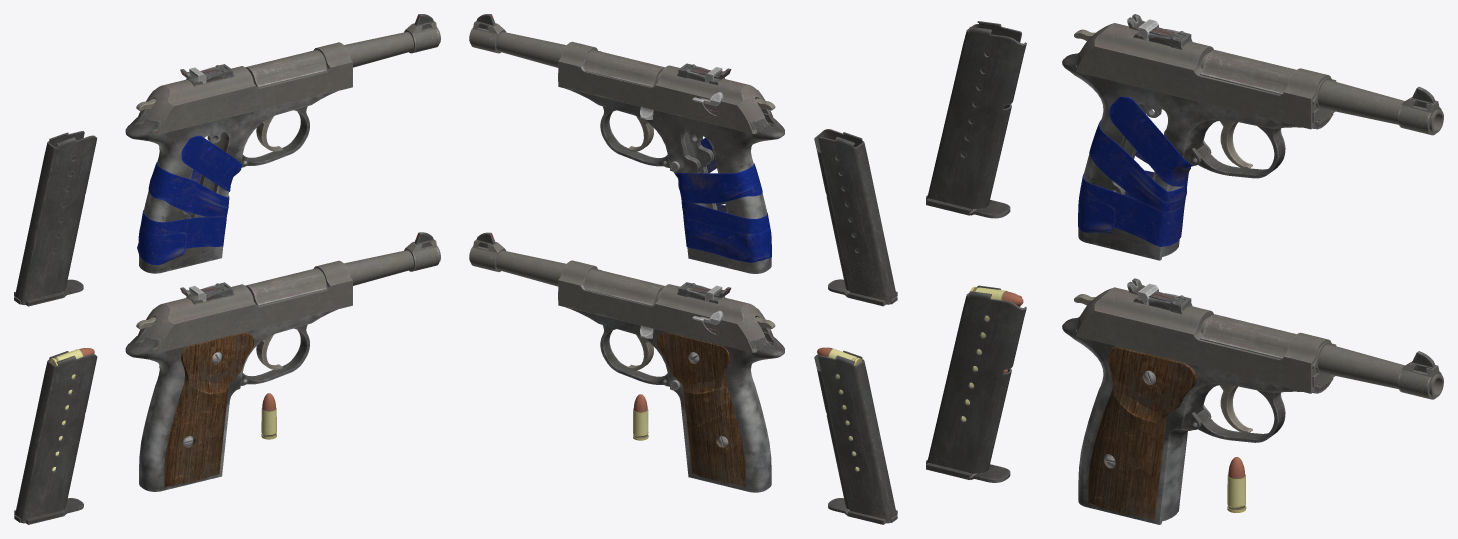
File: service_pistol.glb
3 views of the same model, side by side, from view 1: azimuth 30°, elevation 25°; view 2: azimuth 150°, elevation 25°; view 3: azimuth 330°, elevation 25° (orthographic). The views are drawn at different scales.
Parts seen in each view (by area): view 1: service_pistol_pistol_b, service_pistol_pistol_a, service_pistol_magazine_loaded, service_pistol_magazine_empty, service_pistol_slide_a, service_pistol_slide_b, service_pistol_bullet; view 2: service_pistol_pistol_b, service_pistol_pistol_a, service_pistol_magazine_loaded, service_pistol_magazine_empty, service_pistol_slide_a, service_pistol_slide_b, service_pistol_bullet; view 3: service_pistol_pistol_a, service_pistol_pistol_b, service_pistol_magazine_loaded, service_pistol_magazine_empty, service_pistol_slide_b, service_pistol_slide_a, service_pistol_bullet, service_pistol_trigger_b, service_pistol_trigger_a.
Part boxes in pixels (box(x1,y1,x2,y2)): service_pistol_pistol_b: box(125, 14, 440, 273); service_pistol_pistol_a: box(125, 232, 440, 491); service_pistol_magazine_loaded: box(14, 348, 97, 524); service_pistol_magazine_empty: box(14, 131, 97, 306); service_pistol_slide_a: box(141, 260, 352, 352); service_pistol_slide_b: box(141, 42, 352, 134); service_pistol_bullet: box(261, 393, 276, 439); service_pistol_pistol_b: box(469, 14, 784, 273); service_pistol_pistol_a: box(469, 232, 784, 492); service_pistol_magazine_loaded: box(814, 347, 897, 524); service_pistol_magazine_empty: box(814, 129, 897, 306); service_pistol_slide_a: box(558, 260, 772, 352); service_pistol_slide_b: box(558, 41, 772, 133); service_pistol_bullet: box(633, 394, 648, 440); service_pistol_pistol_a: box(1062, 314, 1443, 524); service_pistol_pistol_b: box(1062, 50, 1443, 260); service_pistol_magazine_loaded: box(926, 285, 1026, 482); service_pistol_magazine_empty: box(926, 21, 1026, 218); service_pistol_slide_b: box(1075, 14, 1336, 129); service_pistol_slide_a: box(1075, 278, 1336, 393); service_pistol_bullet: box(1227, 457, 1246, 512); service_pistol_trigger_b: box(1220, 120, 1252, 169); service_pistol_trigger_a: box(1220, 384, 1252, 433).
Size of the model in its own units: 0.3016 by 0.2807 by 0.0318.
1 material, 1 textured.
